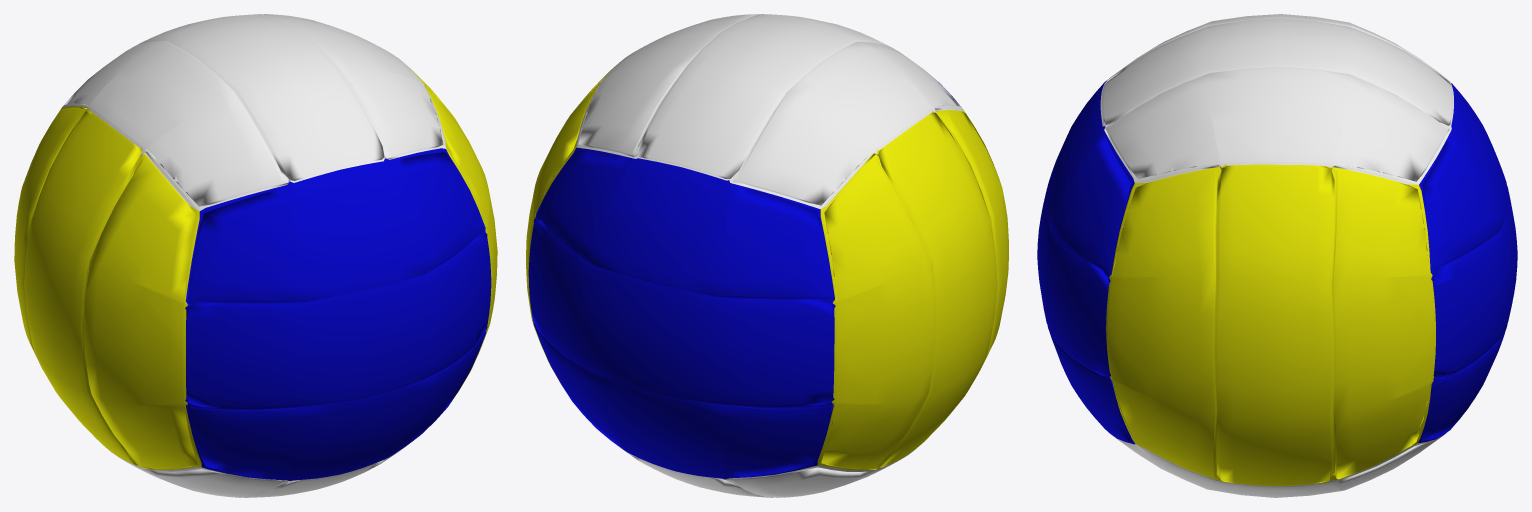
Rendered from volleyball-colored2.fbx.
The picture shows the model from 3 angles, left to right: view 1: azimuth 30°, elevation 25°; view 2: azimuth 150°, elevation 25°; view 3: azimuth 270°, elevation 25°; orthographic projection.
Parts seen in each view (by area): view 1: Sphere; view 2: Sphere; view 3: Sphere.
Boxes of the visible parts, x1,y1,x2,y2 form: Sphere: (14, 14, 497, 497); Sphere: (526, 14, 1008, 497); Sphere: (1037, 14, 1517, 497).
Bounding box in the file's own units: 339 × 339 × 338.
